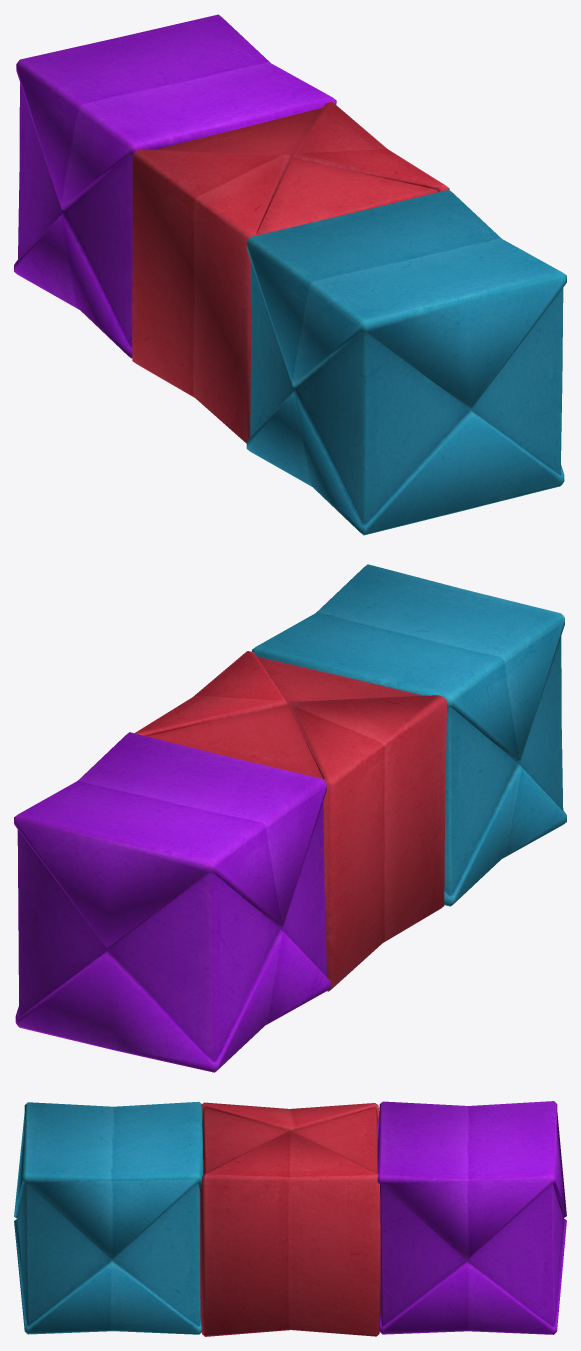
File: hl_column_paper_tall.fbx
3 renders of one model, top to bottom at view 1: azimuth 30°, elevation 25°; view 2: azimuth 150°, elevation 25°; view 3: azimuth 270°, elevation 25°, orthographic. The views are drawn at different scales.
Parts seen in each view (by area): view 1: hl_column_paper_tall; view 2: hl_column_paper_tall; view 3: hl_column_paper_tall.
Part boxes in pixels (x1=…): hl_column_paper_tall: x1=14, y1=14, x2=566, y2=535; hl_column_paper_tall: x1=14, y1=564, x2=566, y2=1072; hl_column_paper_tall: x1=14, y1=1101, x2=566, y2=1336.
Bounding box in the file's own units: 11.52 × 11.31 × 31.55.
